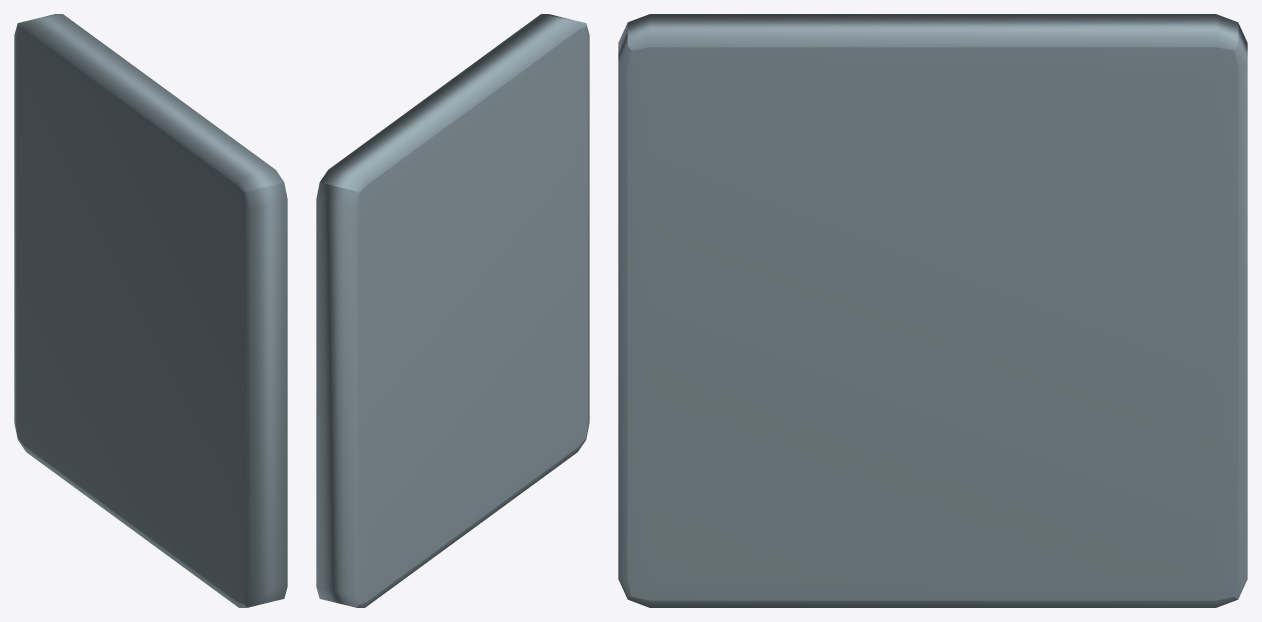
The model's file is Wall.fbx.
3 views of the same model, side by side, from view 1: azimuth 30°, elevation 25°; view 2: azimuth 150°, elevation 25°; view 3: azimuth 270°, elevation 25° (orthographic). The views are drawn at different scales.
Visible parts, largest first — view 1: Cube.012; view 2: Cube.012; view 3: Cube.012.
Part boxes in pixels (bbox=[...]): Cube.012: bbox=[14, 14, 287, 607]; Cube.012: bbox=[316, 14, 589, 607]; Cube.012: bbox=[618, 14, 1247, 607].
Bounding box in the file's own units: 20 × 200 × 200.
1 material, 1 textured.
